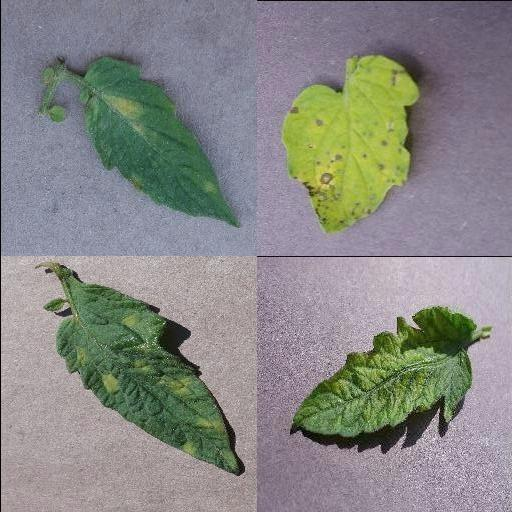Leaf Mold: (54, 283, 242, 475), (76, 58, 242, 228)
Mosaic Virus: (290, 307, 476, 437)
Septoria: (278, 53, 419, 235)
